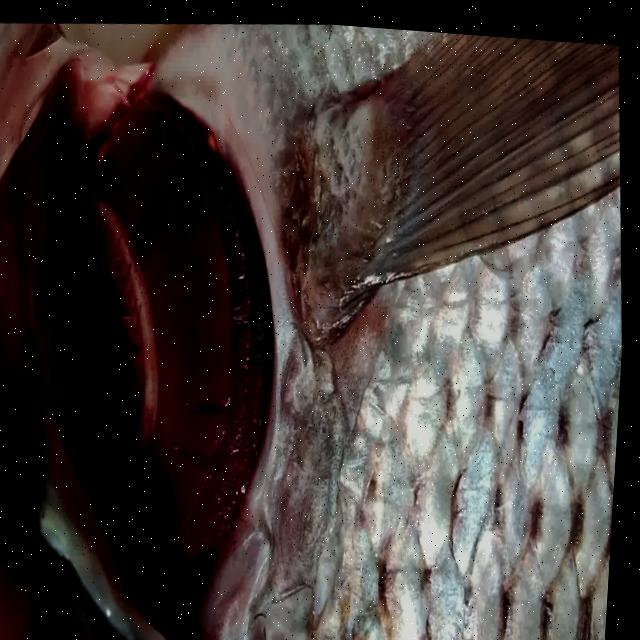Fresh: (42, 56, 309, 640)
